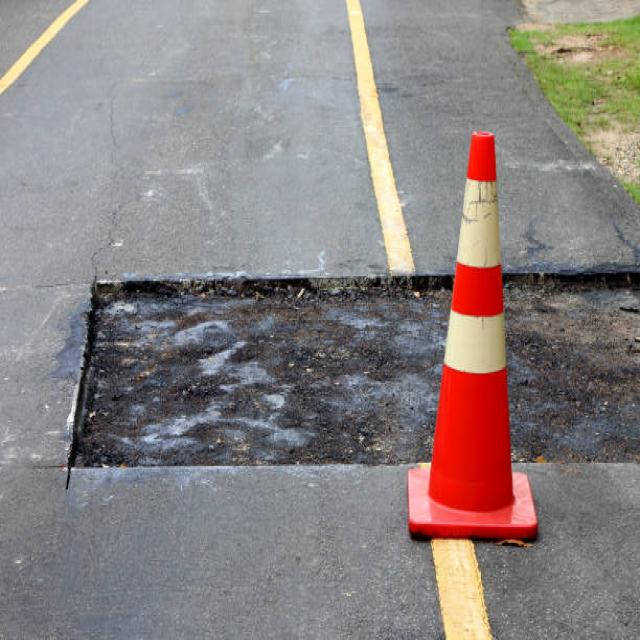Traffic Cone: (387, 84, 555, 568)
